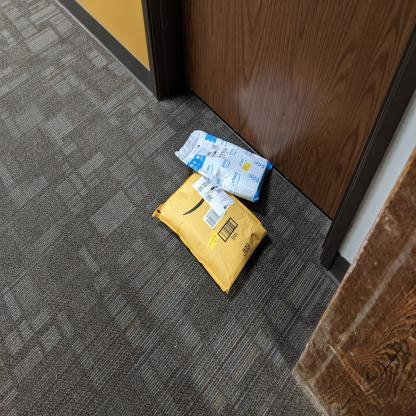label: (191, 175, 235, 217)
package: (154, 169, 269, 293)
